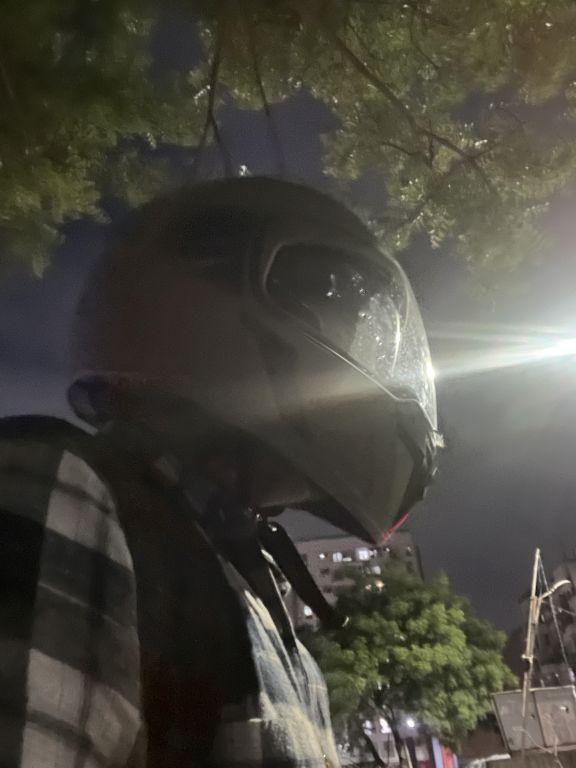helmet: (45, 152, 457, 569)
